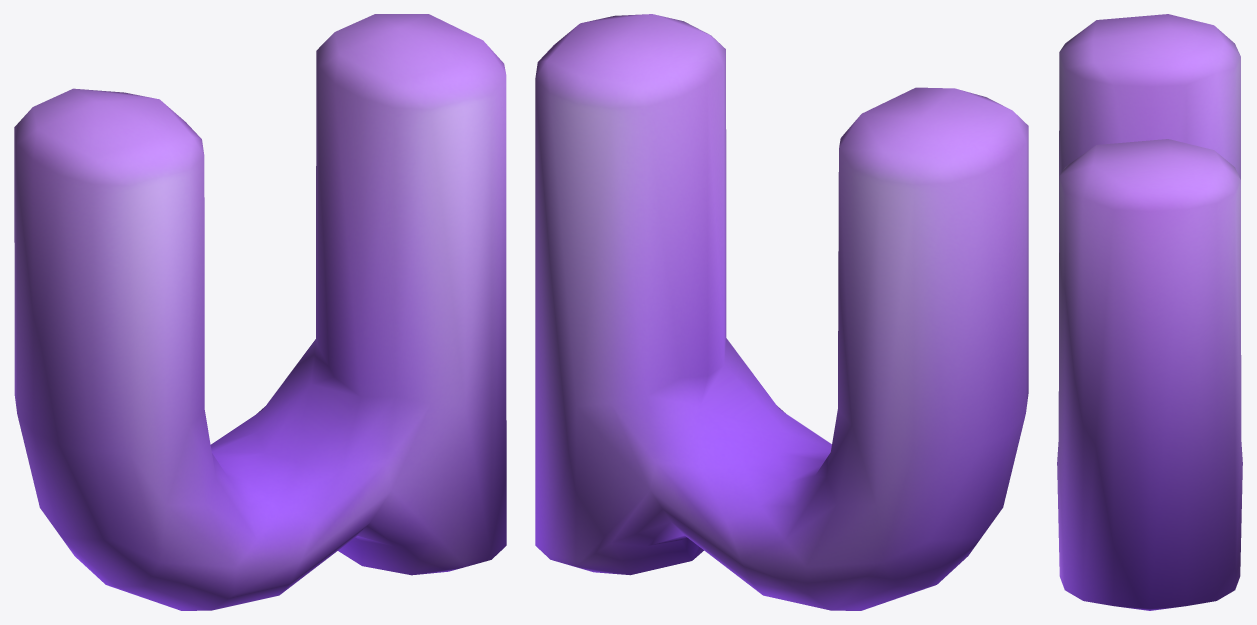
The picture shows the model from 3 angles, left to right: view 1: azimuth 30°, elevation 25°; view 2: azimuth 150°, elevation 25°; view 3: azimuth 270°, elevation 25°; orthographic projection. The views are drawn at different scales.
Visible parts, largest first — view 1: Processed_Mesh0_Geometry; view 2: Processed_Mesh0_Geometry; view 3: Processed_Mesh0_Geometry.
Boxes of the visible parts, box(x1,y1,x2,y2) form: Processed_Mesh0_Geometry: box(14, 14, 506, 610); Processed_Mesh0_Geometry: box(535, 14, 1028, 610); Processed_Mesh0_Geometry: box(1057, 14, 1242, 610).
Size of what is drawn, in the model's own units: 0.0527 by 0.0561 by 0.0218.
Materials: 1 (1 with a texture image).
